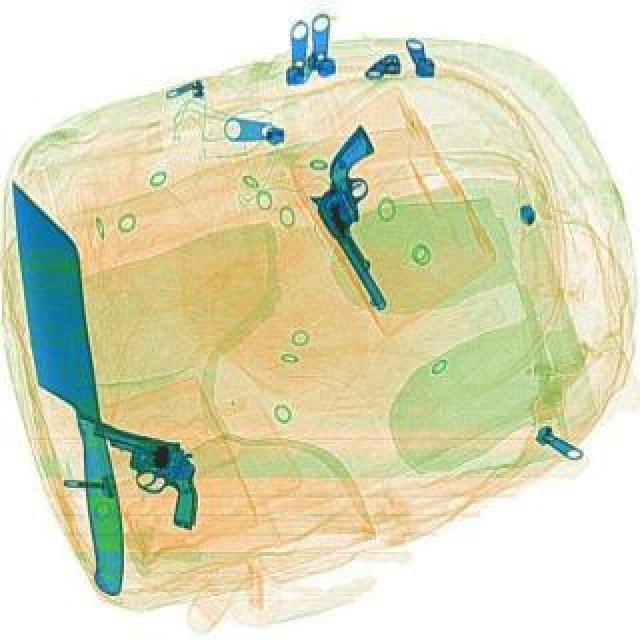gun: (286, 122, 444, 312), (70, 418, 218, 530)
knife: (2, 172, 138, 600)
